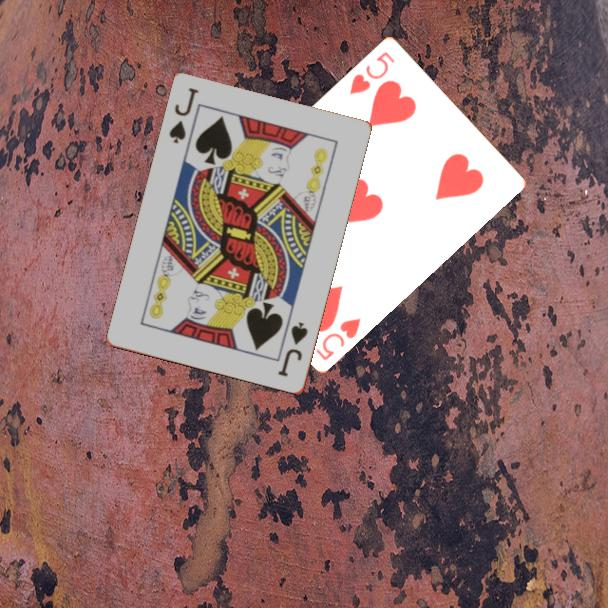h05: (346, 48, 398, 97), (312, 314, 364, 363)
s11: (166, 85, 202, 147), (275, 319, 311, 380)
